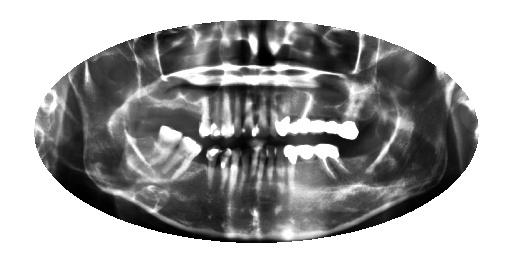Cavity: (241, 146, 251, 192), (242, 97, 253, 138)
Fillings: (338, 98, 360, 141), (283, 143, 300, 181), (301, 144, 313, 187), (313, 98, 326, 134), (326, 104, 339, 139)
Implant: (317, 143, 343, 185)
